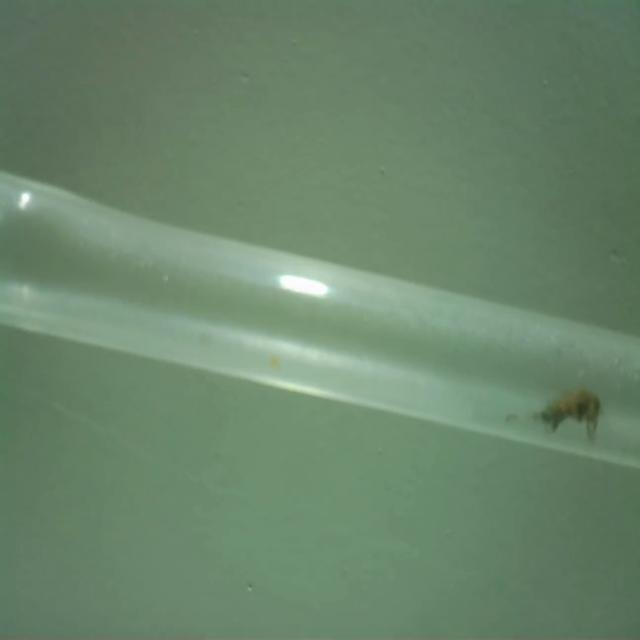Honeybee-Detection: (531, 387, 601, 440)
